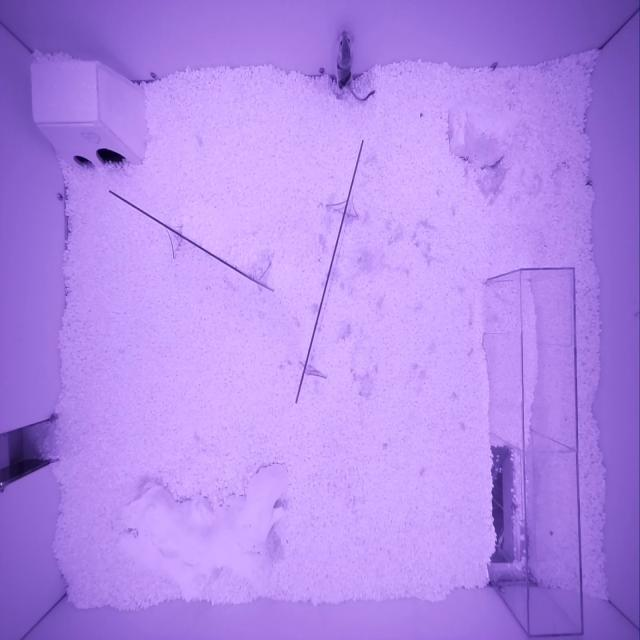pup_h_stripe: (337, 28, 354, 90)
